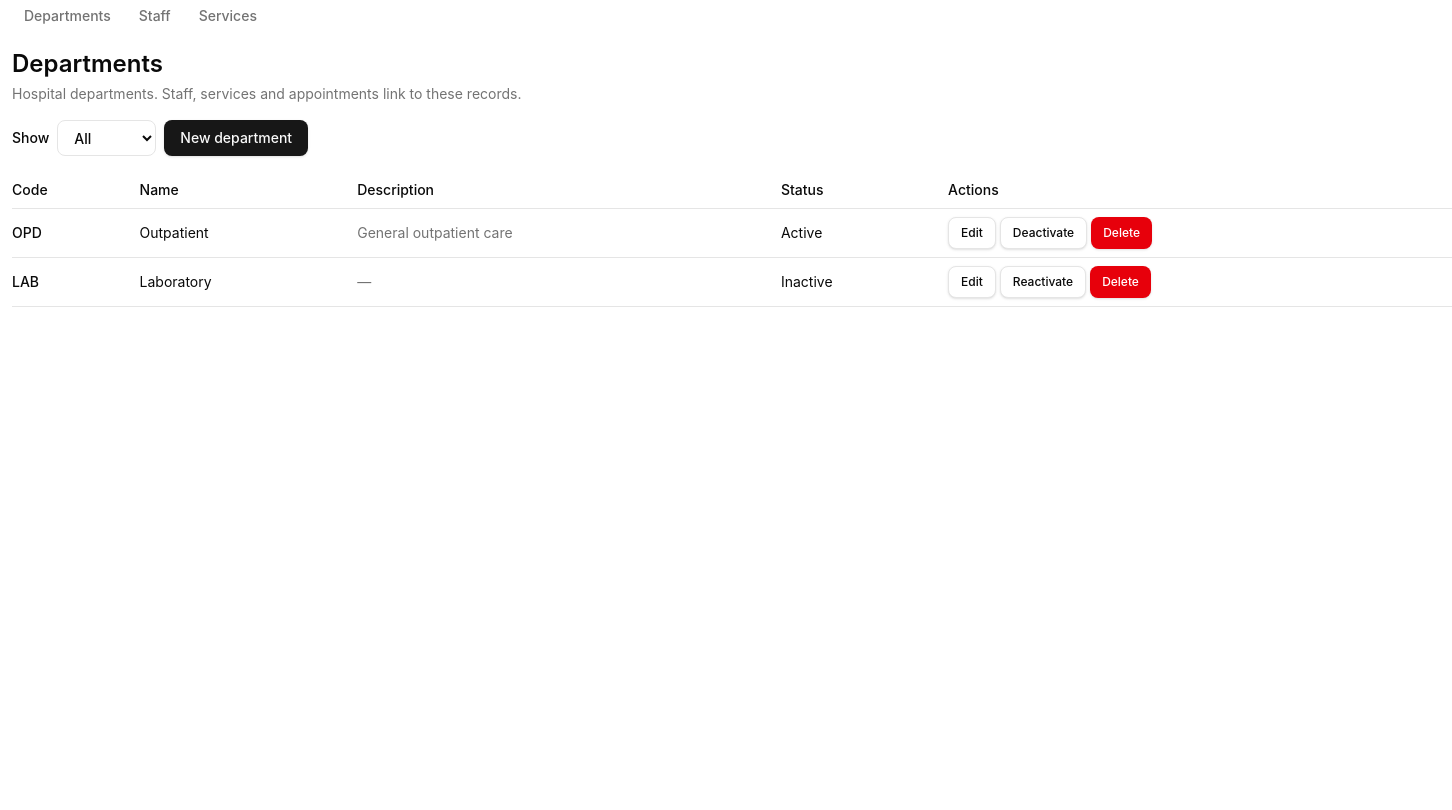
DepartmentsPage › shows the backend field error when the code already exists
Step 1. Click the button "New department" → [236, 138], box top-left (164, 120), bottom-right (308, 156)
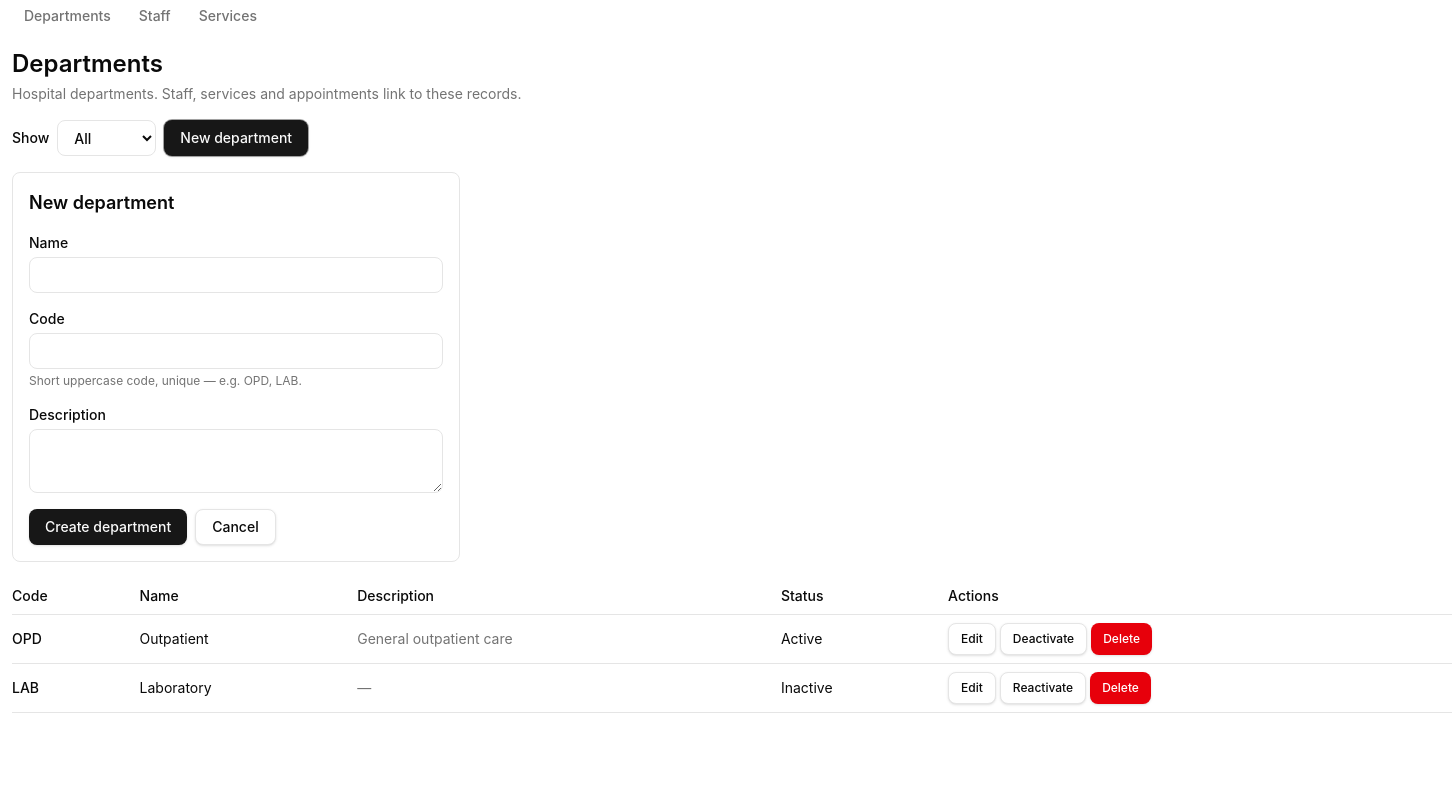
Step 2. Type "Outpatient" into the field labelled "Name" → [236, 275], box top-left (29, 257), bottom-right (443, 293)
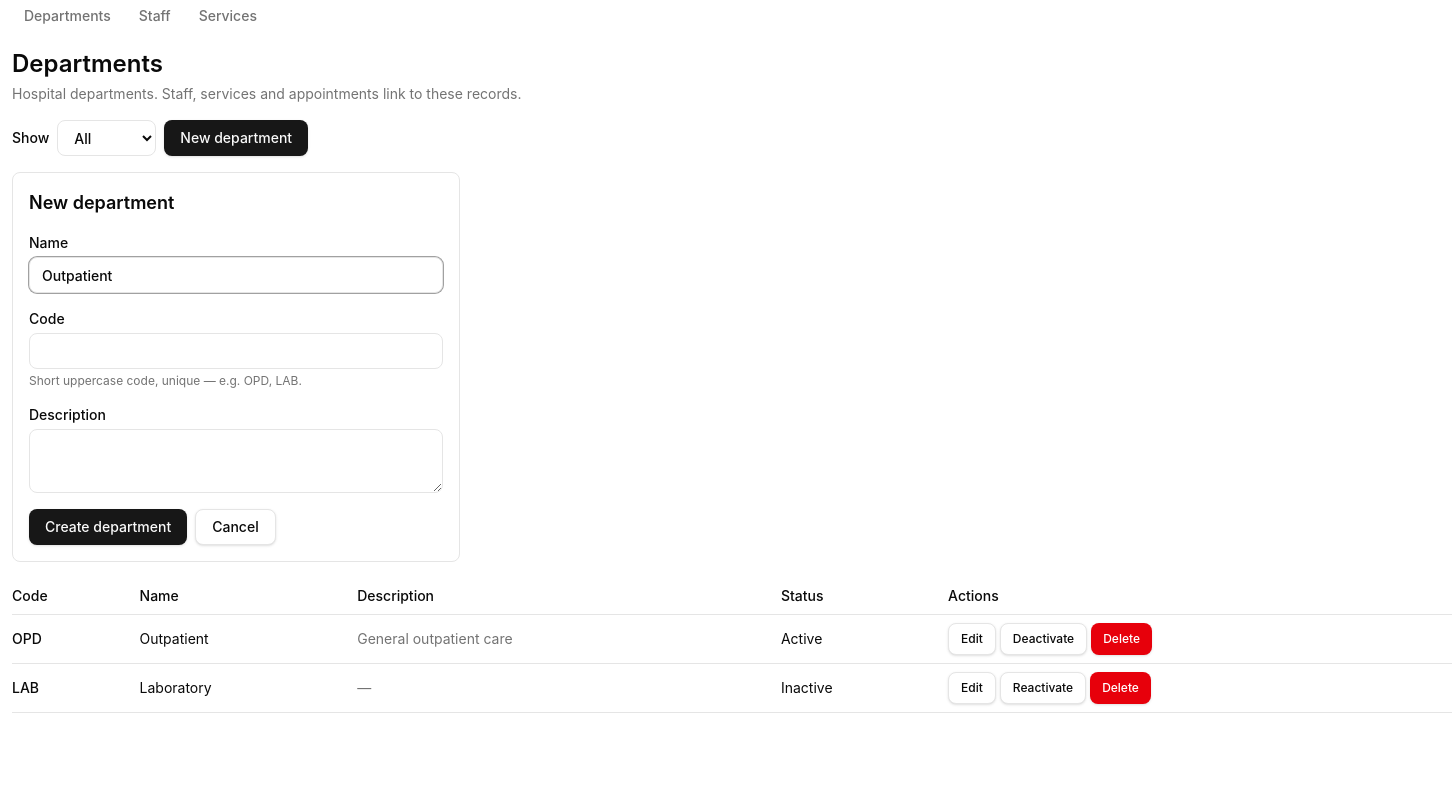
Step 3. Type "OPD" into the field labelled "Code" → [236, 351], box top-left (29, 333), bottom-right (443, 369)
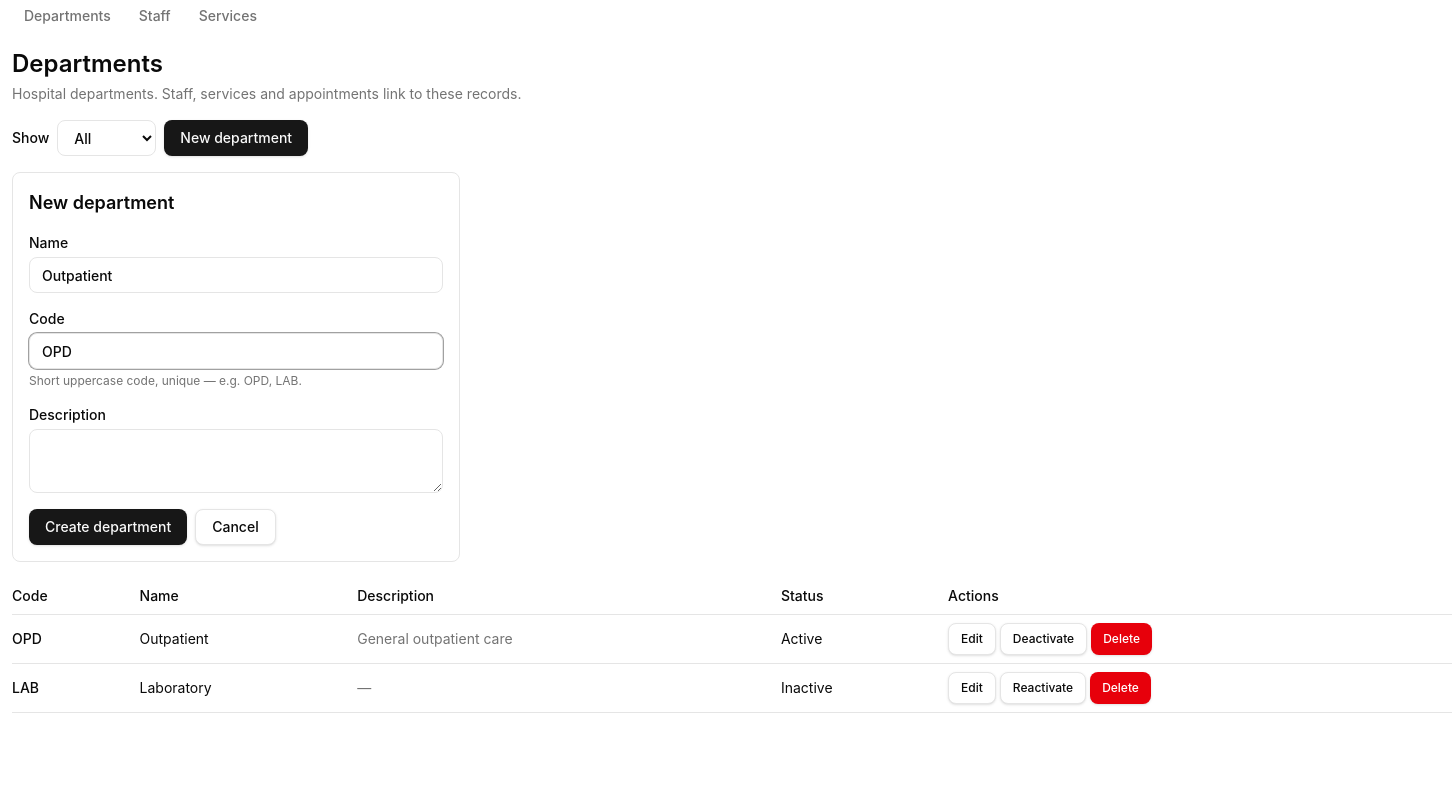
Step 4. Click the button "Create department" → [108, 527], box top-left (29, 509), bottom-right (187, 545)
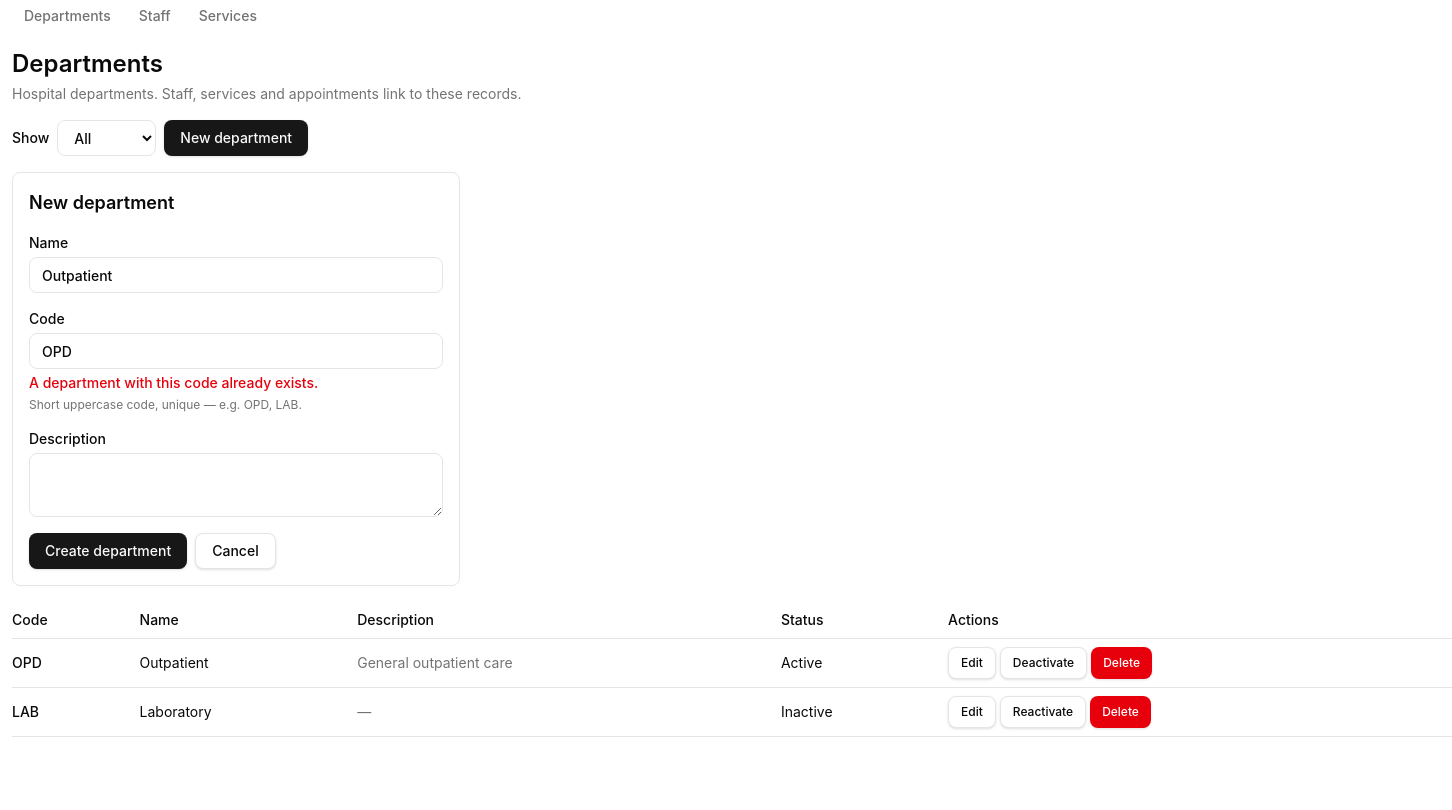
Now the text "A department with this code already exists." is shown, box top-left (29, 374), bottom-right (318, 391)
